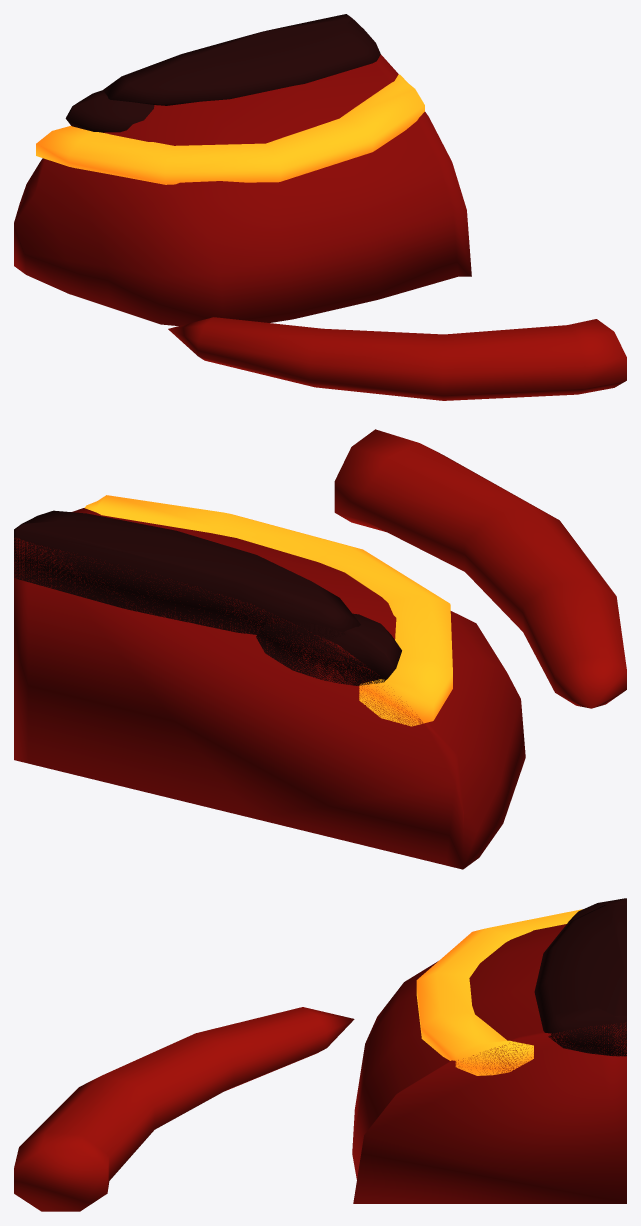
File: newshe-115.glb
3 views of the same model, one above another, from view 1: azimuth 30°, elevation 25°; view 2: azimuth 150°, elevation 25°; view 3: azimuth 270°, elevation 25° (orthographic). The views are drawn at different scales.
Visible parts, largest first — view 1: newshe-115; view 2: newshe-115; view 3: newshe-115.
Boxes of the visible parts, left/top/right/bottom form: newshe-115: left=14, top=14, right=626, bottom=400; newshe-115: left=14, top=429, right=626, bottom=869; newshe-115: left=14, top=898, right=626, bottom=1211.
Bounding box in the file's own units: 1.33 × 0.6887 × 1.93.
